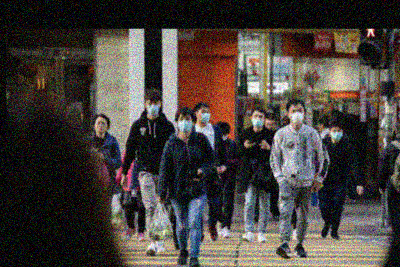with_mask: (178, 114, 193, 131), (289, 107, 304, 123), (146, 99, 161, 114), (197, 107, 211, 123), (251, 112, 264, 127), (331, 127, 343, 141)
without_mask: (94, 119, 107, 132), (264, 120, 277, 130)
